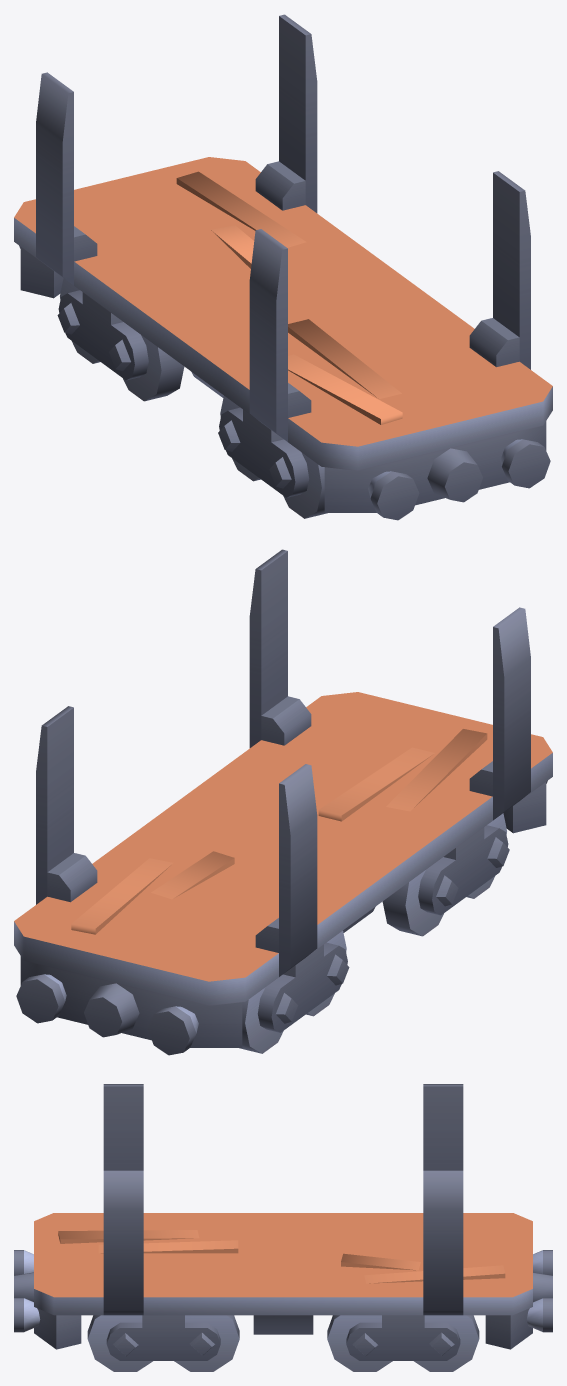
File: kenney-train-train-carriage-flatbed-wood.glb
The picture shows the model from 3 angles, top to bottom: view 1: azimuth 30°, elevation 25°; view 2: azimuth 150°, elevation 25°; view 3: azimuth 270°, elevation 25°; orthographic projection. The views are drawn at different scales.
Visible parts, largest first — view 1: train-carriage-flatbed-wood; view 2: train-carriage-flatbed-wood; view 3: train-carriage-flatbed-wood.
Boxes of the visible parts, <box> form: train-carriage-flatbed-wood: <box>14,14,552,520</box>; train-carriage-flatbed-wood: <box>14,549,552,1055</box>; train-carriage-flatbed-wood: <box>14,1084,552,1371</box>.
Bounding box in the file's own units: 1.1 × 1.16 × 2.7.
Materials: 1 (1 with a texture image).
